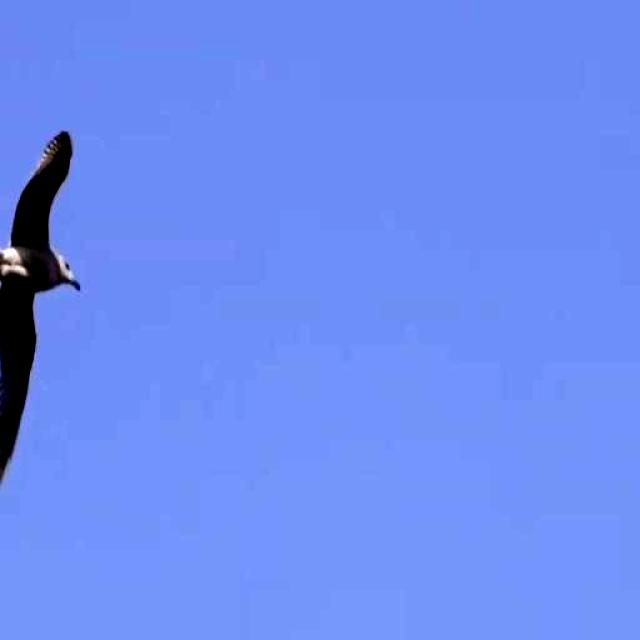airplane: (0, 116, 94, 488)
